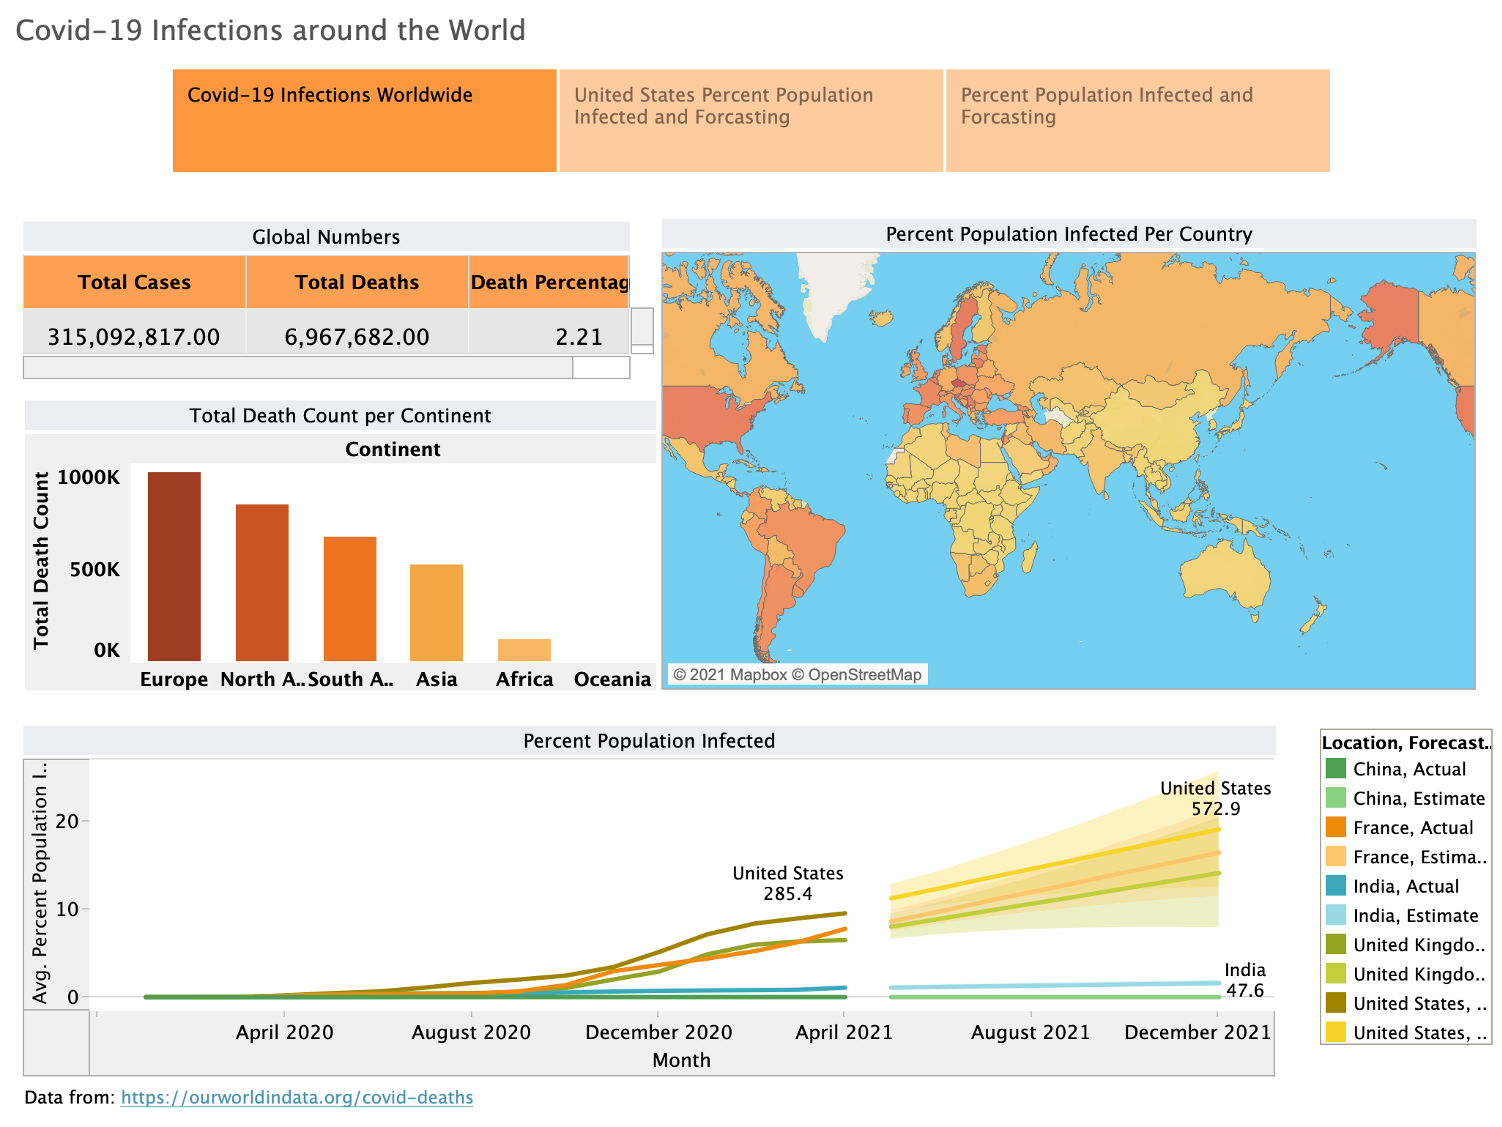

The dashboard page shown, as its layout file describes it:
{"tool":"tableau","page":{"name":"Dashboard 1","canvas":[1000,1000],"units":"permille","ordinal":0},"visuals":[{"type":"worksheet","box":[0,0,1000,1000]},{"type":"worksheet","param":"vert","box":[7.5,13.2,985,973.6]},{"type":"worksheet","box":[7.5,13.2,985,973.6]},{"type":"worksheet","title":"Sheet 3","mark":"Automatic","box":[440.2,24.7,551.4,512.4]},{"type":"worksheet","title":"Sheet 1","mark":"Automatic","box":[8.4,28,428,171.3]},{"type":"worksheet","title":"Sheet 2","mark":"Automatic","rows":["TotalDeathCount"],"cols":["Location"],"box":[9.3,222.4,427.1,314.7]},{"type":"worksheet","title":"Sheet 4","mark":"Automatic","rows":["PercentPopulationInfected"],"cols":["date"],"box":[7.5,576.6,848.6,382.2]},{"type":"worksheet","title":"Sheet 4","mark":"Automatic","rows":["PercentPopulationInfected"],"cols":["date"],"param":"[federated.0cbqc6517ciiv61g9ixos03q3gcv].[none:Location:nk]\n[federated.0cbqc6517","box":[886,579.9,116.8,344.3]},{"type":"worksheet","box":[5.6,960.5,335.5,39.5]}]}

Visuals, with their boxes on the dashboard's canvas, which has no fixed pixel size, in thousandths of its width and height (x1, y1, x2, y2). These are canvas units, not pixel positions in the 1502x1127 screenshot, which may show the page scaled, cropped or inside an application window:
worksheet: [left=0, top=0, right=1000, bottom=1000]
worksheet: [left=8, top=13, right=992, bottom=987]
worksheet: [left=8, top=13, right=992, bottom=987]
"Sheet 3" worksheet: [left=440, top=25, right=992, bottom=537]
"Sheet 1" worksheet: [left=8, top=28, right=436, bottom=199]
"Sheet 2" worksheet: [left=9, top=222, right=436, bottom=537]
"Sheet 4" worksheet: [left=8, top=577, right=856, bottom=959]
"Sheet 4" worksheet: [left=886, top=580, right=1003, bottom=924]
worksheet: [left=6, top=960, right=341, bottom=1000]
